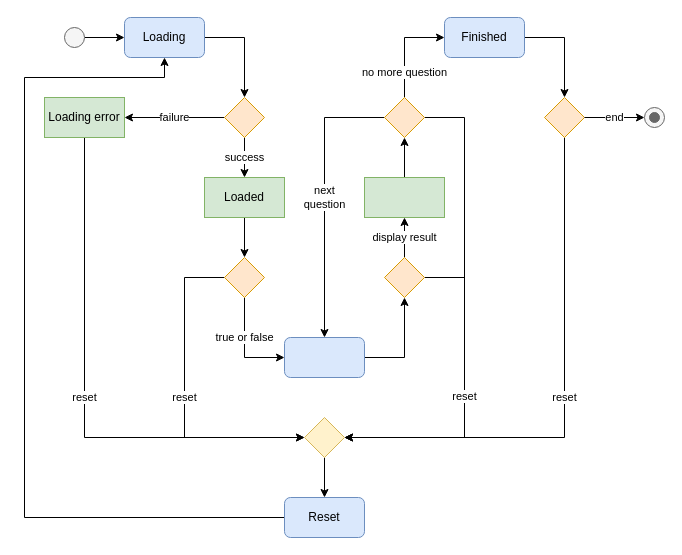
Some shapes in this 682 by 555 pixel diagram are drawn without their labels. The shapes that lost their labels are listed below. From the top down, each one's centre as x and y in pixels, then its label:
(404,197): Answered
(324,357): Answering
